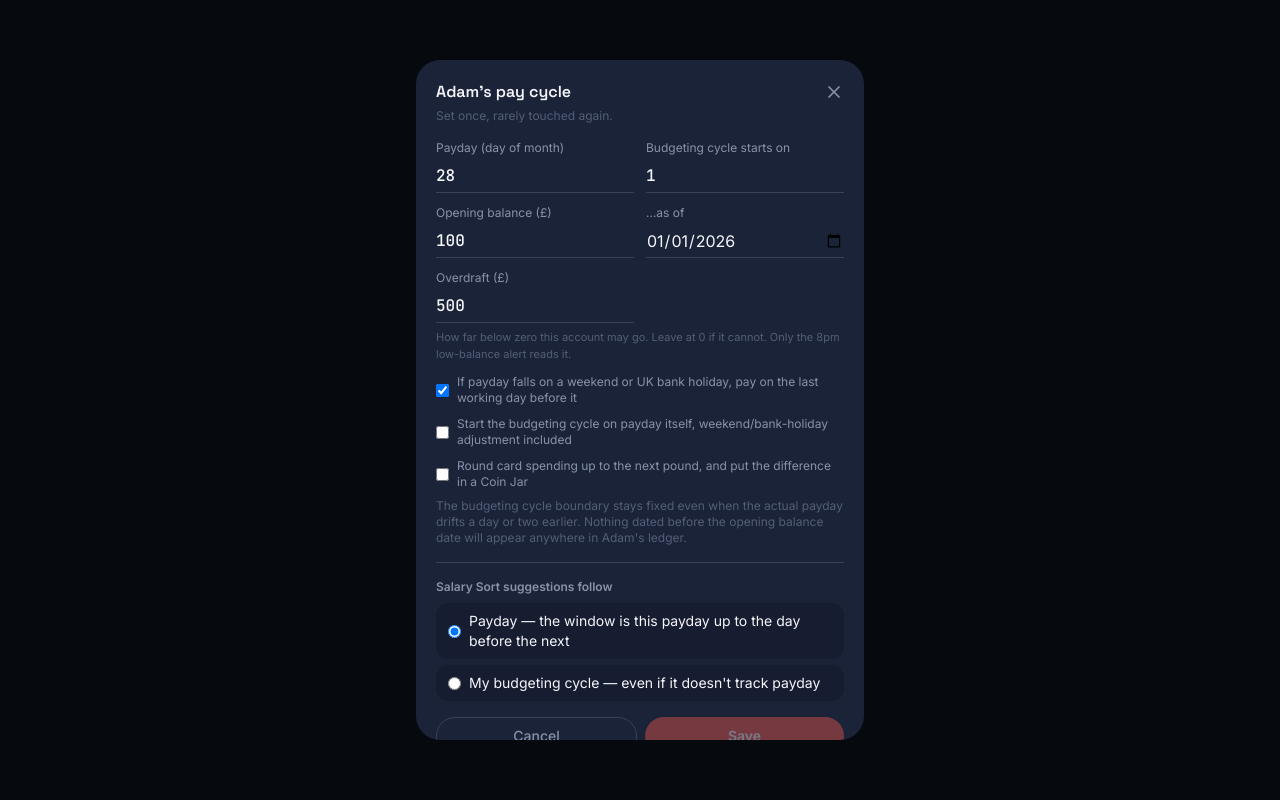
Scenario: the pay-cycle cog › typing it back to the original disables Save again
The width and height of the screenshot is (1280, 800).
expect the button "Save" is disabled: met, box [645,717,844,740]
Step 1. Clear the number field labelled "Overdraft (£)" → x=535, y=306, box [436,290,634,323]
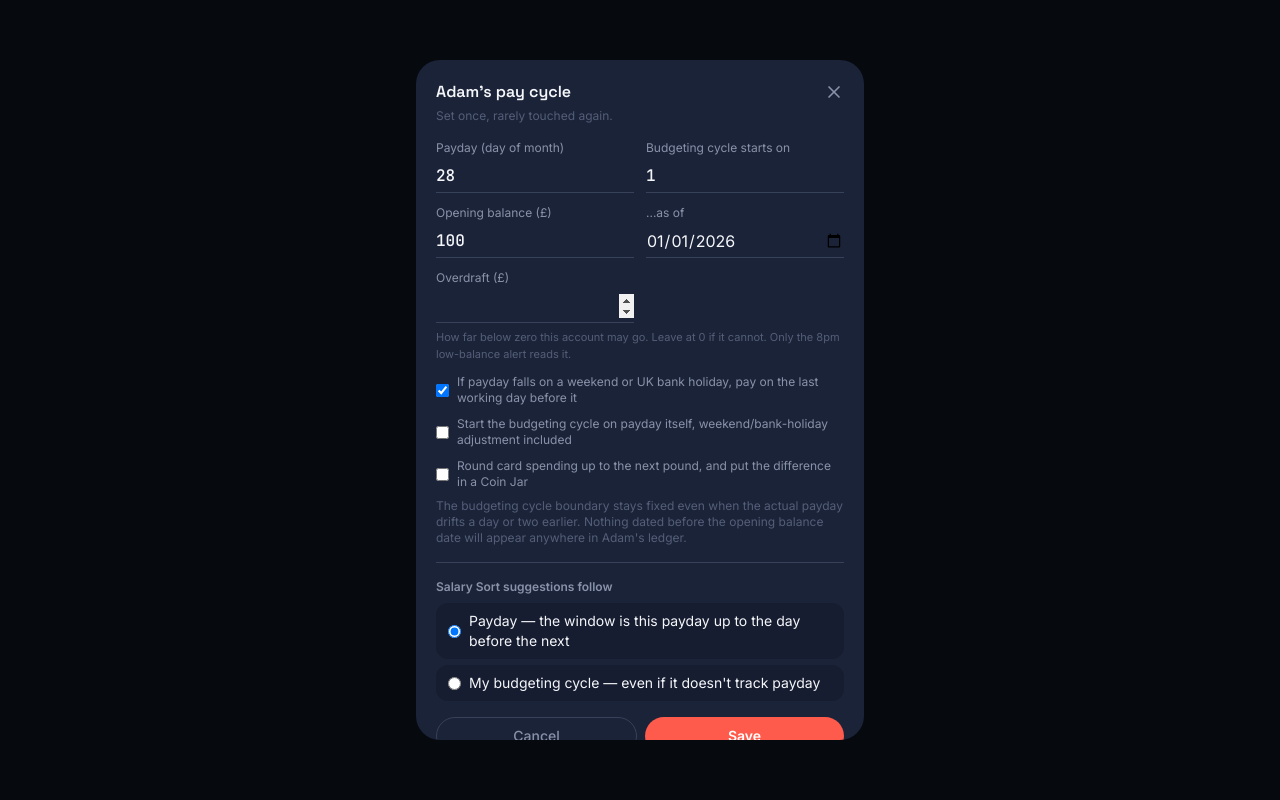
expect the button "Save" is enabled: met, box [645,717,844,740]
Step 2. Type "500" into the number field labelled "Overdraft (£)" → x=535, y=306, box [436,290,634,323]
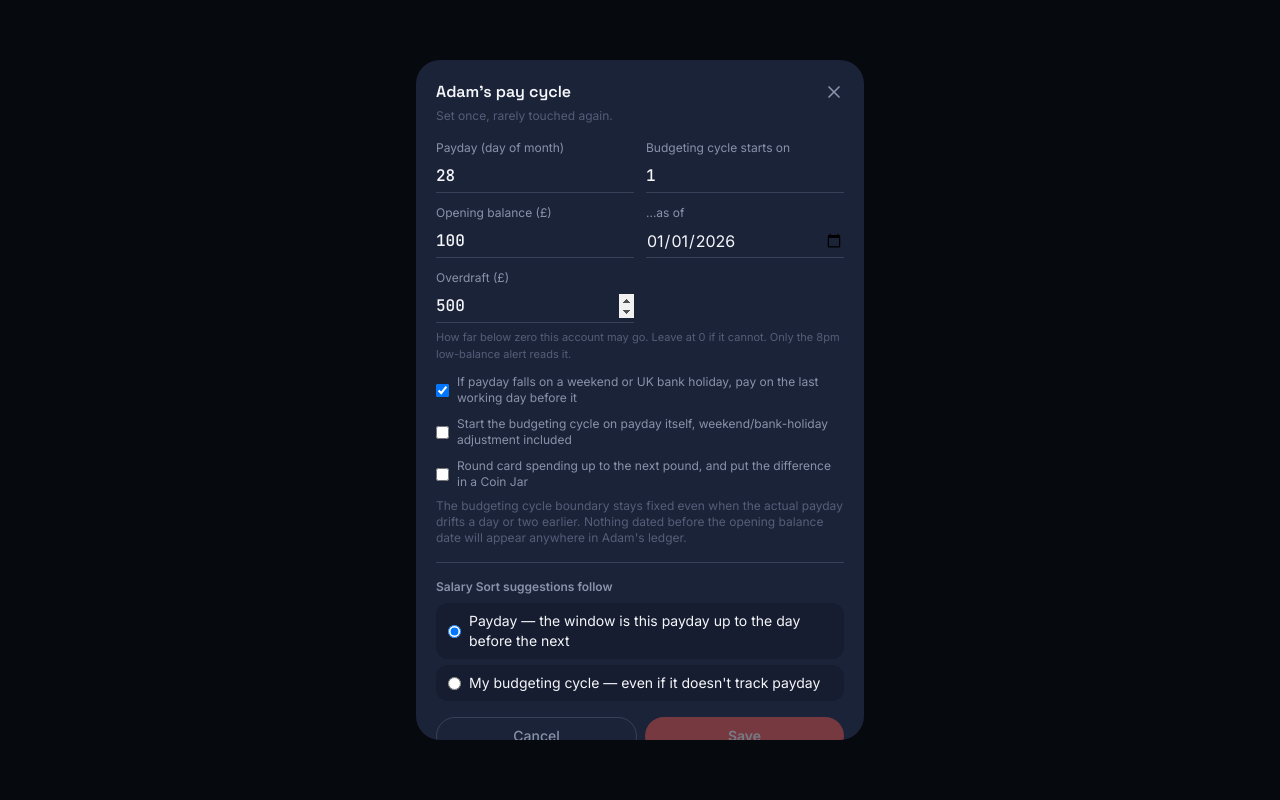
expect the button "Save" is disabled: met, box [645,717,844,740]
